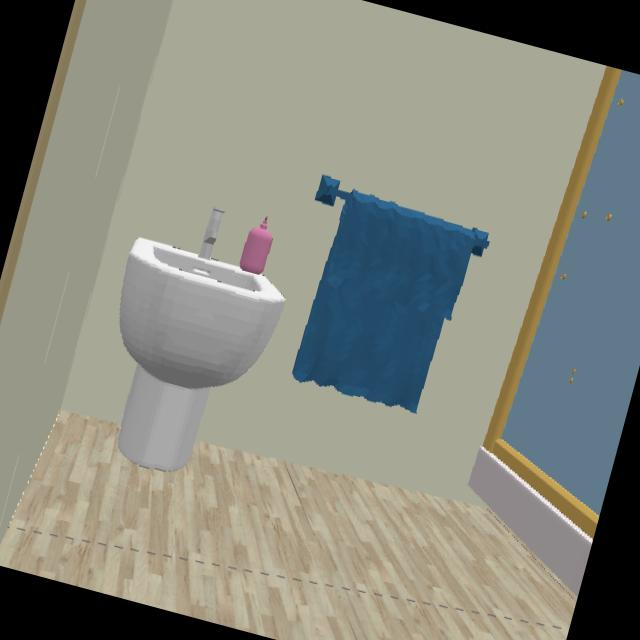shower: (482, 65, 640, 542)
washbasin: (118, 208, 286, 391)
